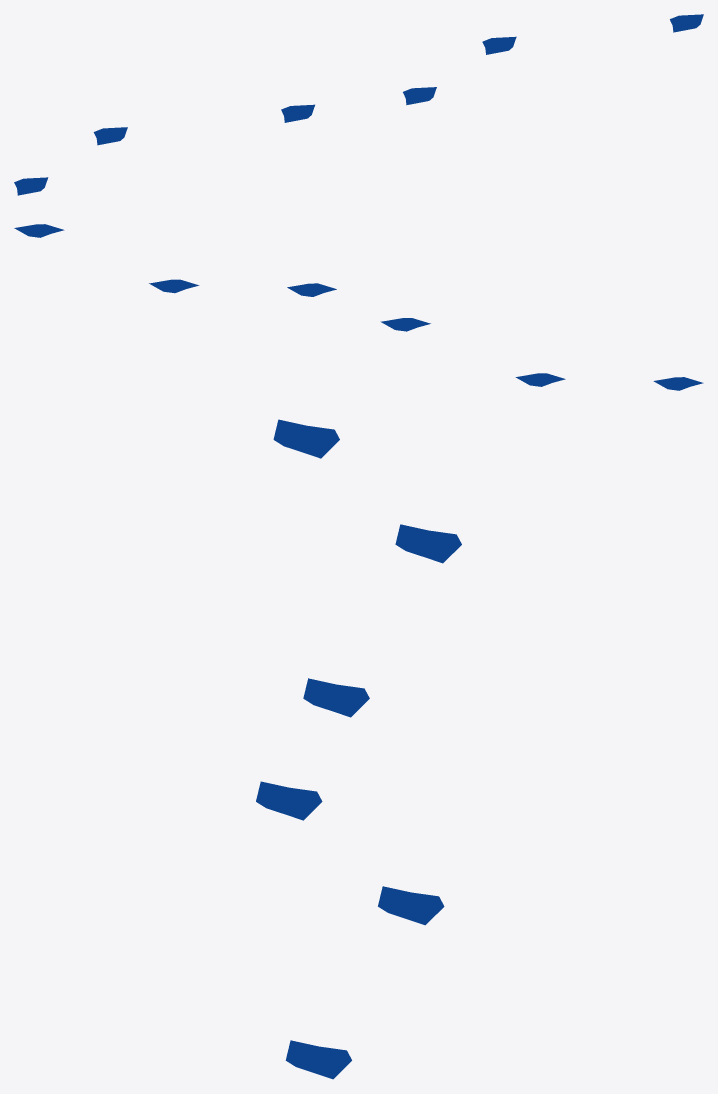
File: little shape.glb
The picture shows the model from 3 angles, top to bottom: view 1: azimuth 30°, elevation 25°; view 2: azimuth 150°, elevation 25°; view 3: azimuth 270°, elevation 25°; orthographic projection. The views are drawn at different scales.
Visible parts, largest first — view 1: Plane, Plane.005, Plane.001, Plane.004, Plane.002, Plane.003; view 2: Plane.001, Plane, Plane.003, Plane.004, Plane.005, Plane.002; view 3: Plane.005, Plane, Plane.003, Plane.001, Plane.004, Plane.002.
Boxes of the visible parts, box(x1,y1,x2,y2) form: Plane: box(14, 177, 48, 195); Plane.005: box(670, 14, 703, 32); Plane.001: box(93, 127, 127, 145); Plane.004: box(482, 36, 516, 54); Plane.002: box(281, 104, 314, 122); Plane.003: box(403, 87, 436, 105); Plane.001: box(515, 373, 565, 386); Plane: box(653, 377, 703, 390); Plane.003: box(287, 283, 336, 296); Plane.004: box(149, 279, 199, 293); Plane.005: box(14, 224, 64, 237); Plane.002: box(380, 318, 430, 331); Plane.005: box(285, 1040, 351, 1079); Plane: box(273, 419, 339, 458); Plane.003: box(256, 781, 322, 820); Plane.001: box(395, 524, 461, 563); Plane.004: box(378, 886, 444, 925); Plane.002: box(303, 678, 369, 717).
Bounding box in the file's own units: 10.96 × 0 × 1.45.
